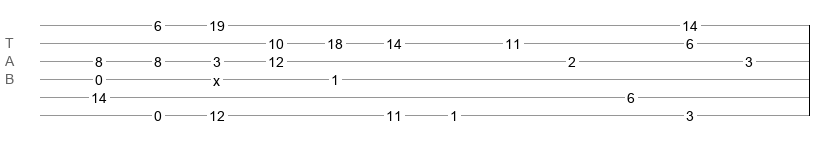0: (95, 72, 103, 82), (154, 108, 162, 118)
1: (331, 72, 339, 82), (450, 108, 458, 118)
10: (268, 36, 284, 46)
11: (386, 108, 402, 118), (505, 36, 521, 46)
12: (209, 108, 225, 118), (268, 54, 284, 64)
14: (91, 90, 107, 100), (386, 36, 402, 46), (682, 18, 698, 28)
18: (327, 36, 343, 46)
19: (209, 18, 225, 28)
2: (568, 54, 576, 64)
3: (213, 54, 221, 64), (686, 108, 694, 118), (745, 54, 753, 64)
6: (154, 18, 162, 28), (627, 90, 635, 100), (686, 36, 694, 46)
8: (95, 54, 103, 64), (154, 54, 162, 64)
x: (213, 73, 220, 81)
